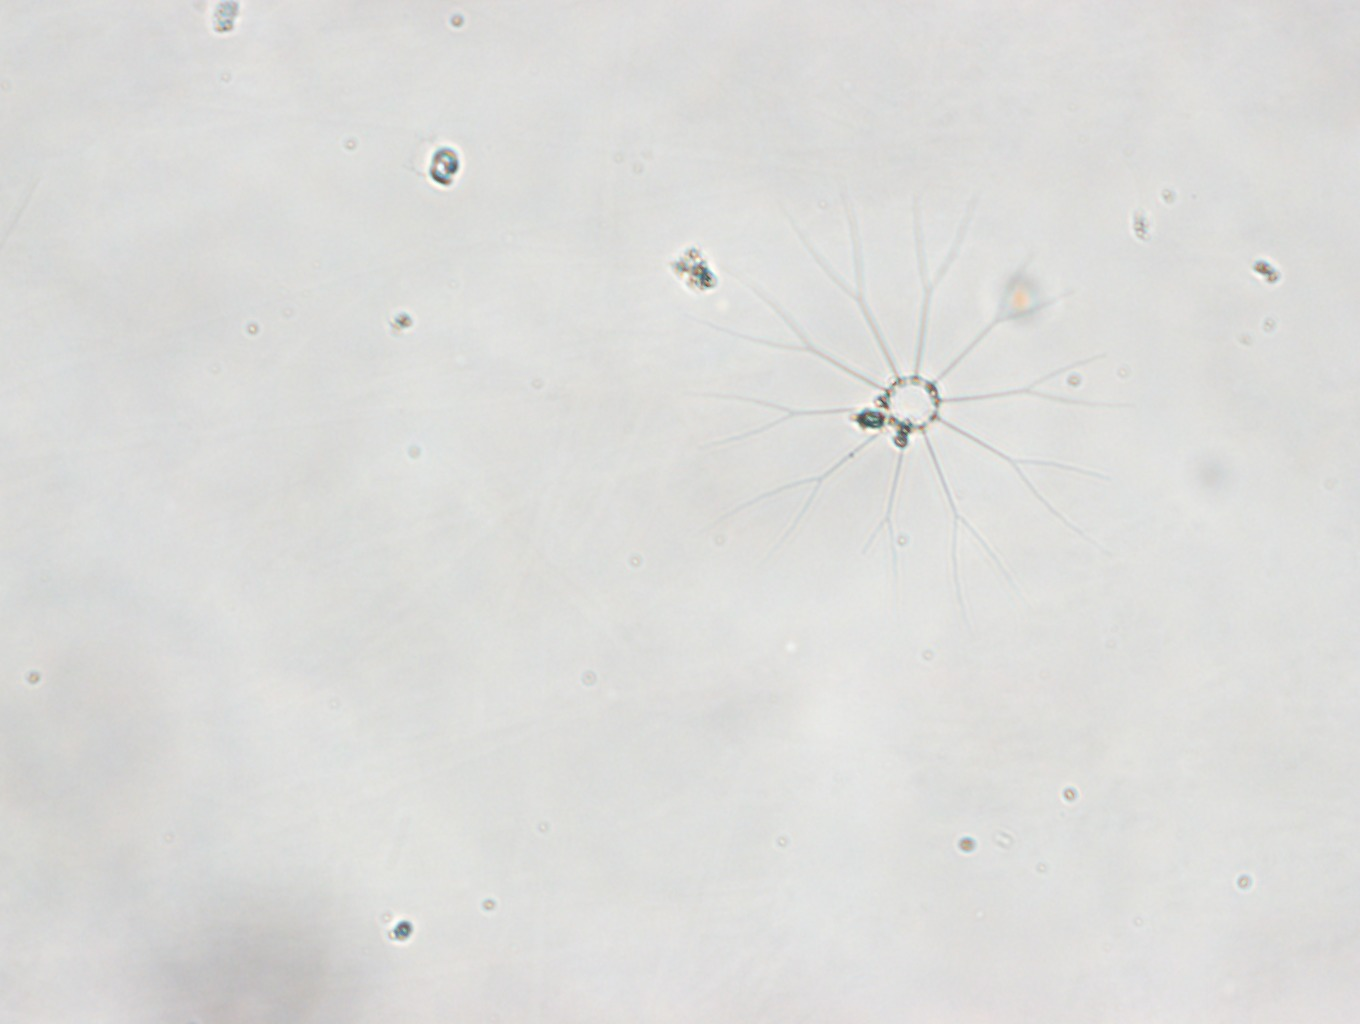bacteriastrum: (678, 170, 1147, 641)
